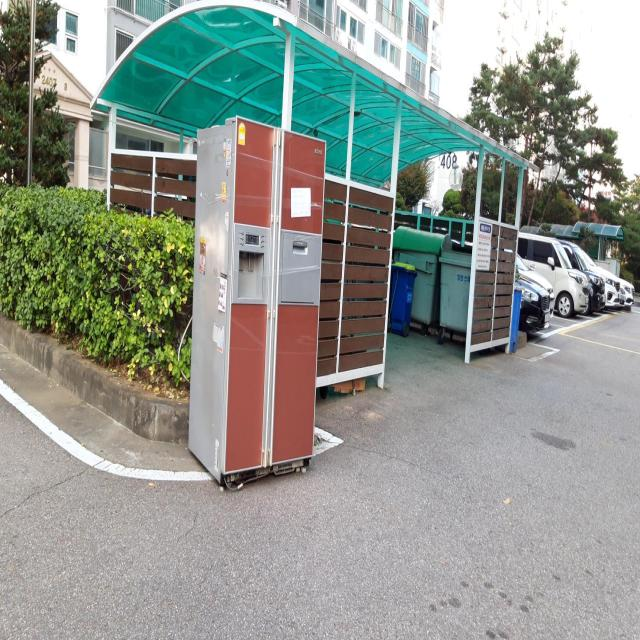refrigerator: (185, 113, 328, 487)
